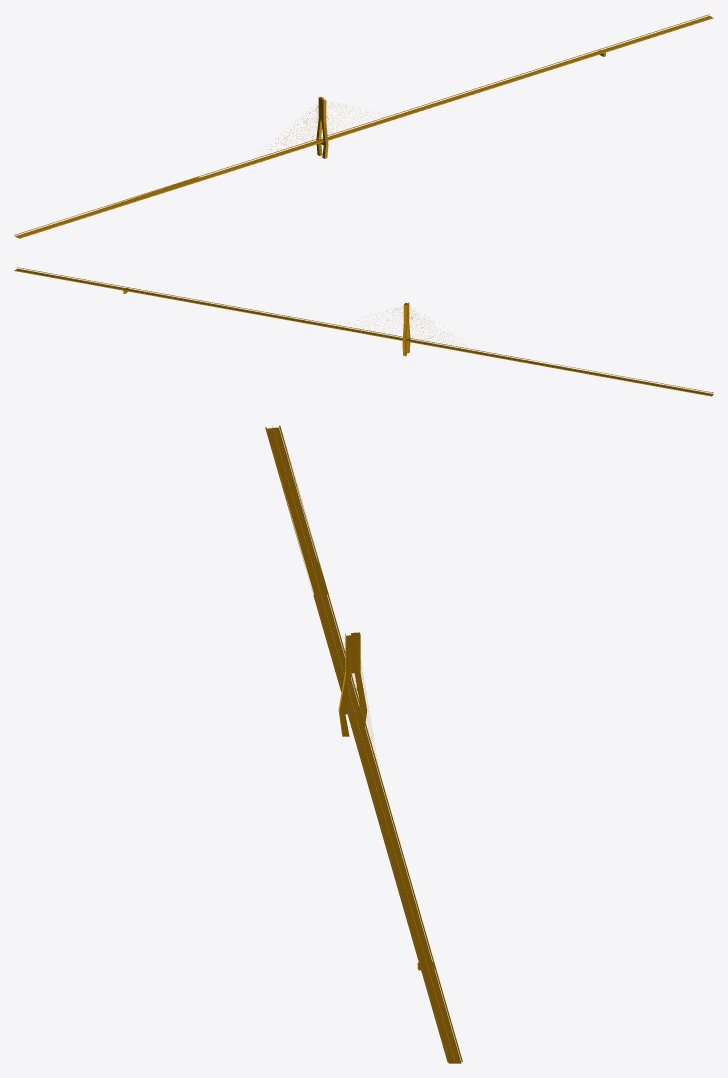
File: bridge.gltf
The picture shows the model from 3 angles, top to bottom: view 1: azimuth 30°, elevation 25°; view 2: azimuth 150°, elevation 25°; view 3: azimuth 270°, elevation 25°; orthographic projection. The views are drawn at different scales.
Size of the model in its own units: 386013 by 28567 by 50755.
